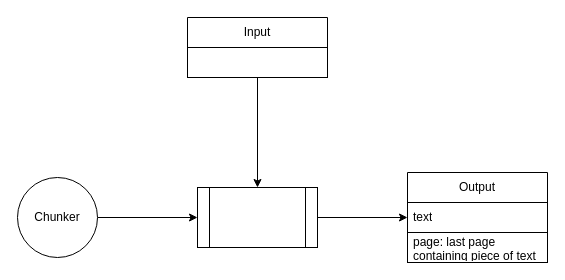
Image size: 565x280. Some labels were removed from this diagram. The centre of each missing label's shape, as x and y in pixels:
"chunk_pages" goes at point 257,217.
"pages_text - assumes consecutive pages" goes at point 257,62.
